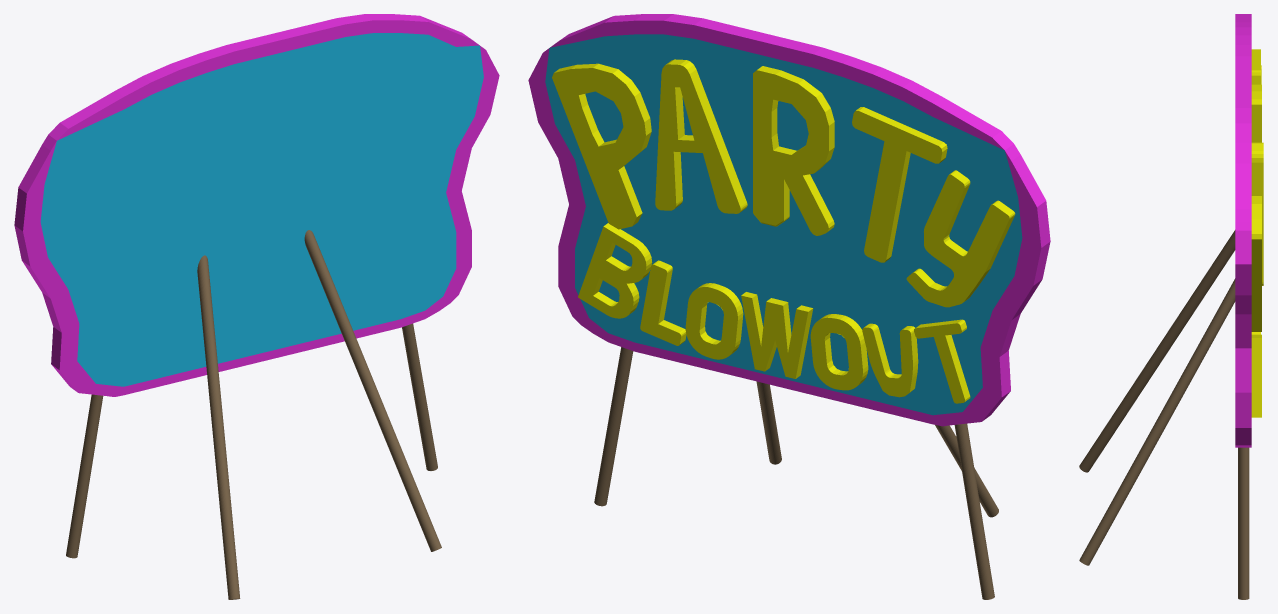
The model's file is PartyBlowjob.fbx.
3 renders of one model, left to right at view 1: azimuth 30°, elevation 25°; view 2: azimuth 150°, elevation 25°; view 3: azimuth 270°, elevation 25°, orthographic. The views are drawn at different scales.
Parts seen in each view (by area): view 1: Panneau_Cube.014, pieds.001_Cylinder.001, pieds_Cylinder; view 2: Panneau_Cube.014, R_Cube.003, P_Cube, A_Cube.001, Y_Cube.005, T_Cube.004, pieds_Cylinder, B_Cube.007, W_Cube.010, O.001_Cube.011, O_Cube.009, U_Cube.012 (+3 smaller); view 3: Panneau_Cube.014, pieds.001_Cylinder.001, pieds_Cylinder, P_Cube, B_Cube.007, A_Cube.001, R_Cube.003, T_Cube.004.
Boxes of the visible parts, x1,y1,x2,y2 form: Panneau_Cube.014: [14, 14, 499, 396]; pieds.001_Cylinder.001: [197, 230, 441, 599]; pieds_Cylinder: [66, 323, 437, 558]; Panneau_Cube.014: [528, 14, 1050, 426]; R_Cube.003: [753, 66, 834, 235]; P_Cube: [552, 63, 651, 229]; A_Cube.001: [655, 59, 747, 213]; Y_Cube.005: [906, 170, 1015, 307]; T_Cube.004: [852, 107, 947, 262]; pieds_Cylinder: [594, 347, 994, 599]; B_Cube.007: [578, 223, 652, 318]; W_Cube.010: [741, 292, 813, 378]; O.001_Cube.011: [810, 314, 868, 390]; O_Cube.009: [685, 283, 743, 359]; U_Cube.012: [862, 323, 918, 397]; Panneau_Cube.014: [1235, 14, 1251, 447]; pieds.001_Cylinder.001: [1079, 230, 1235, 565]; pieds_Cylinder: [1238, 447, 1249, 599]; P_Cube: [1251, 196, 1261, 331]; B_Cube.007: [1251, 334, 1261, 417]; A_Cube.001: [1251, 142, 1263, 285]; R_Cube.003: [1251, 84, 1261, 142]; T_Cube.004: [1251, 49, 1260, 84].
Bounding box in the file's own units: 1527 × 1449 × 535.
